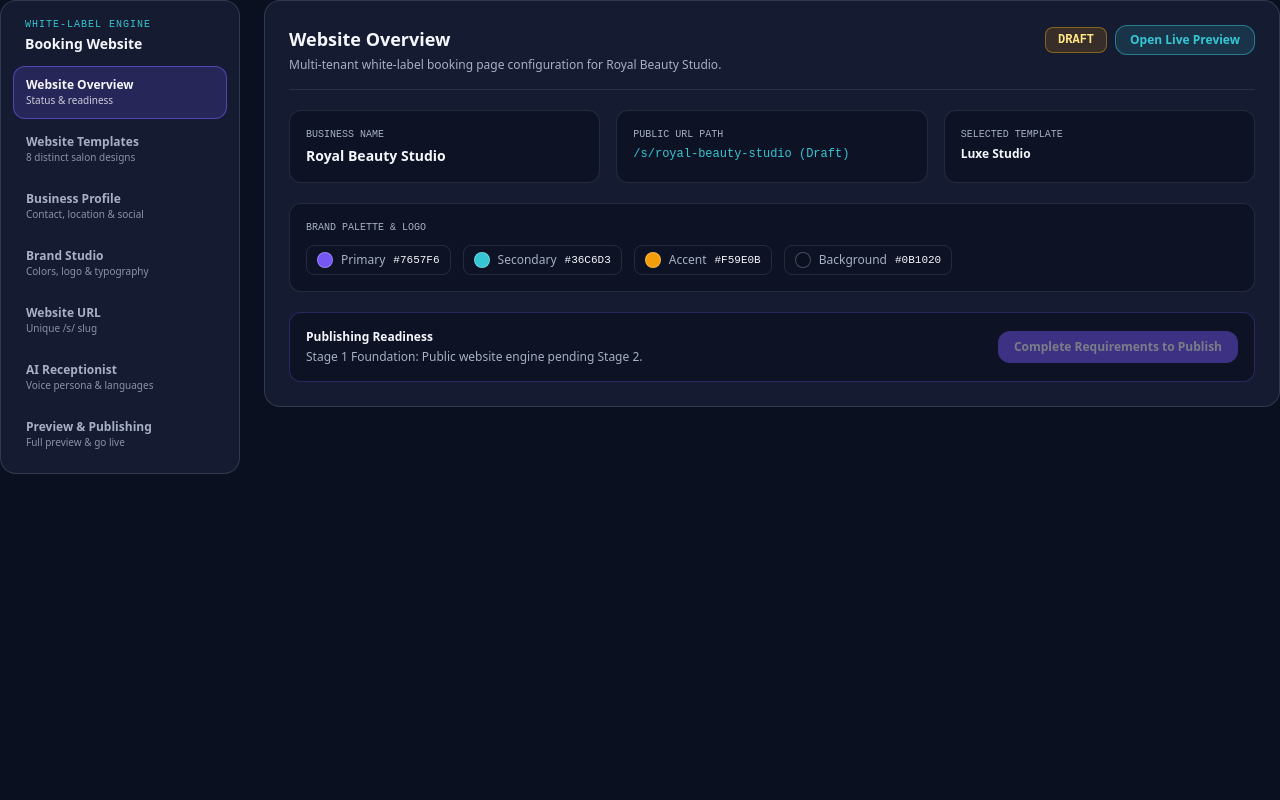
Test: Stage 1 — Booking Website Dashboard Foundation › renders Website Overview with guarded Publish button, Brand Studio live preview, and slug check
The width and height of the screenshot is (1280, 800).
Expected: the text with test id "website-status-badge" reads "draft", [1058,33,1094,47]
Expected: the button with test id "overview-publish-button" is disabled, [998,331,1238,363]
Note: Brand Studio renders live preview
Click the button with test id "website-nav-brand" at (120, 264), box [13,237,227,290]
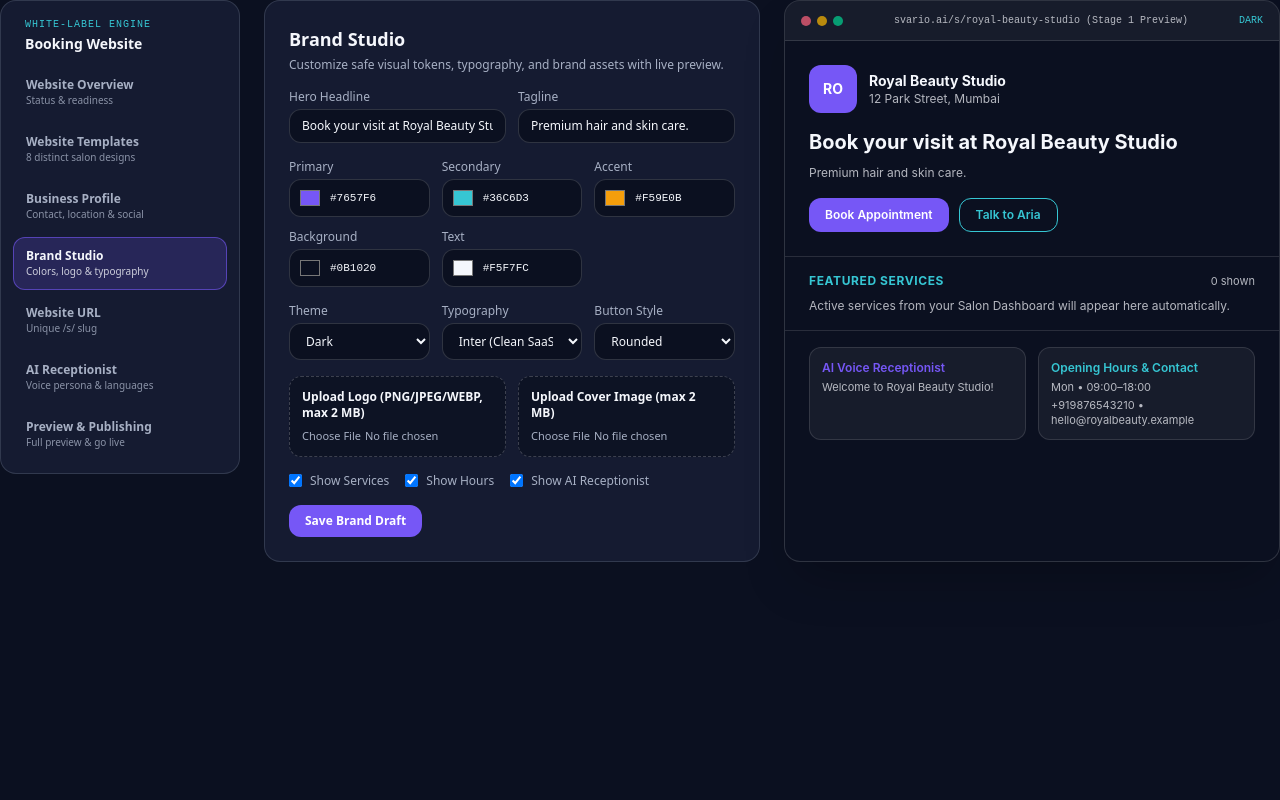
Expected: the element with test id "booking-website-live-preview" shows "Royal Beauty Studio", [869,72,1006,89]
Note: Website URL slug availability check
Click the button with test id "website-nav-url" at (120, 320), box [13,294,227,347]
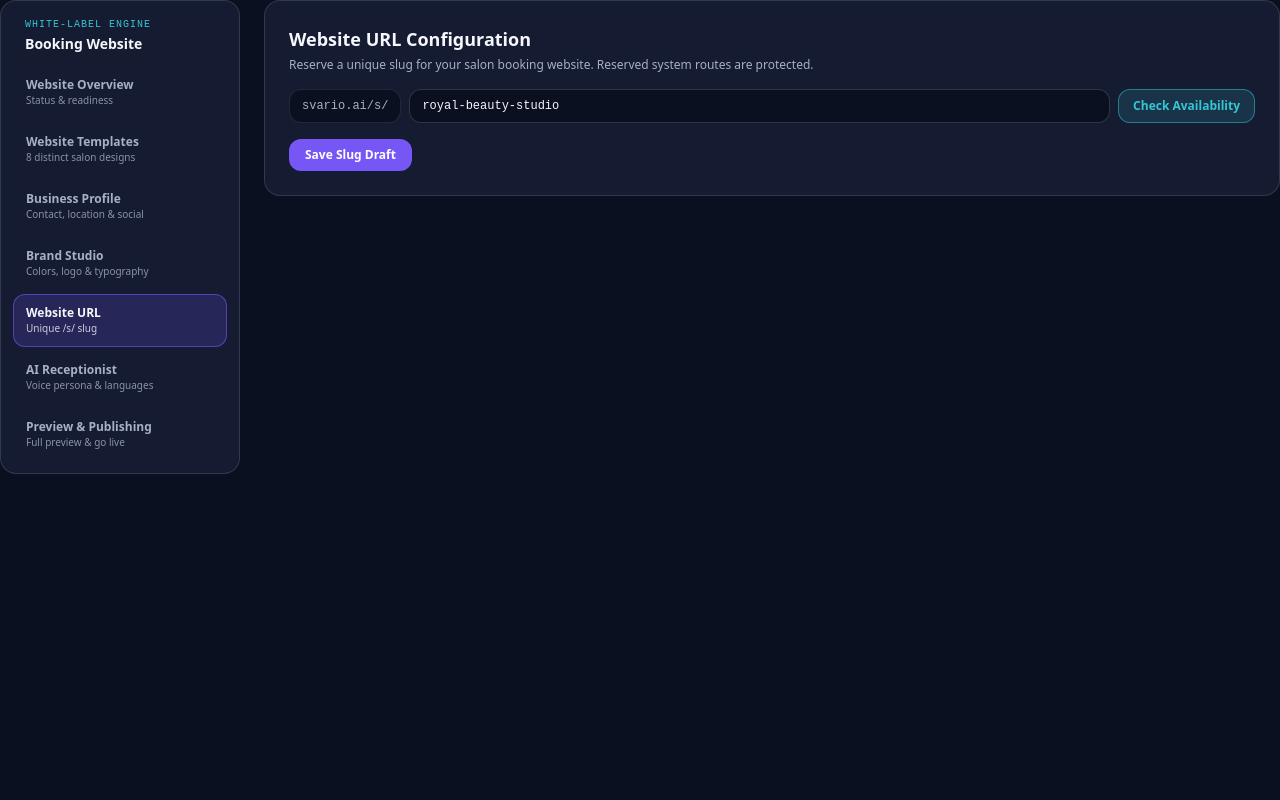
Replace the text in the field with test id "website-slug-input" with "glow-and-shine" at (760, 106), box [409,89,1110,123]
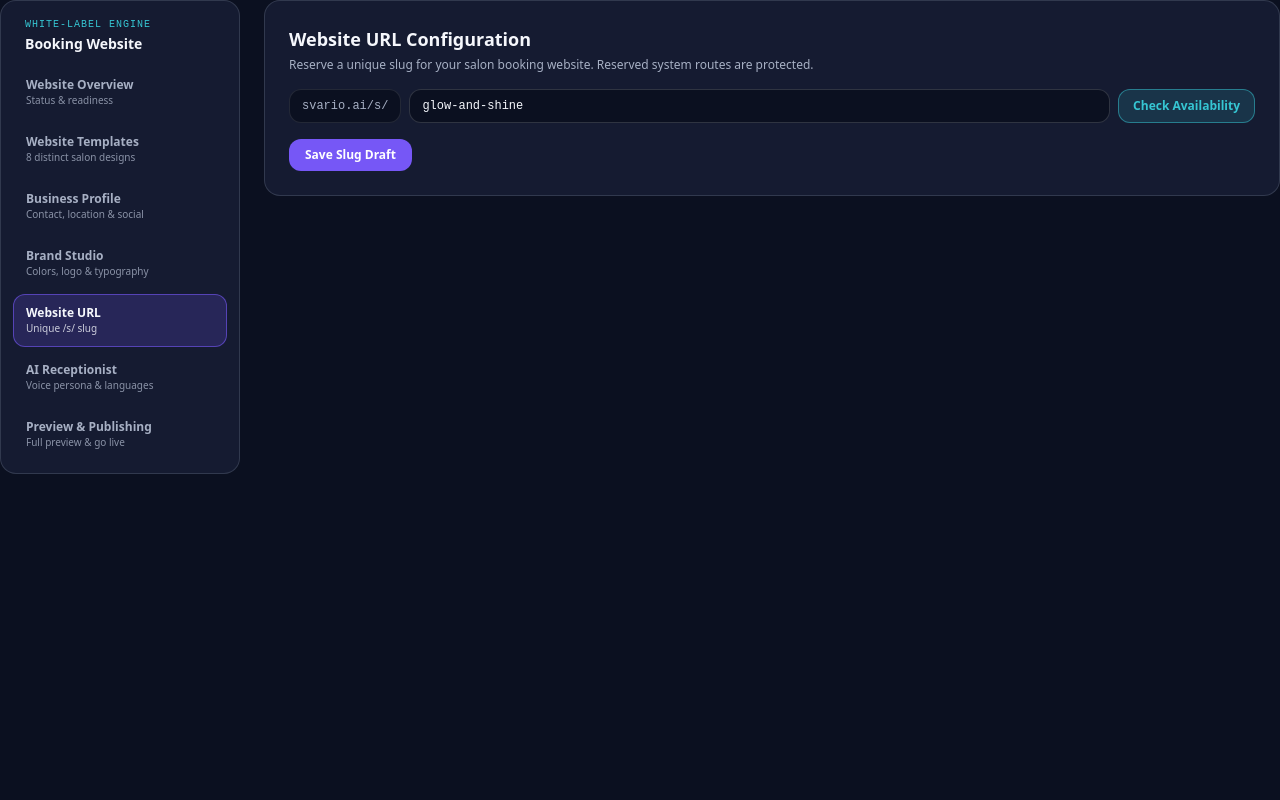
Click the button with test id "check-slug-button" at (1187, 106), box [1118,89,1255,123]
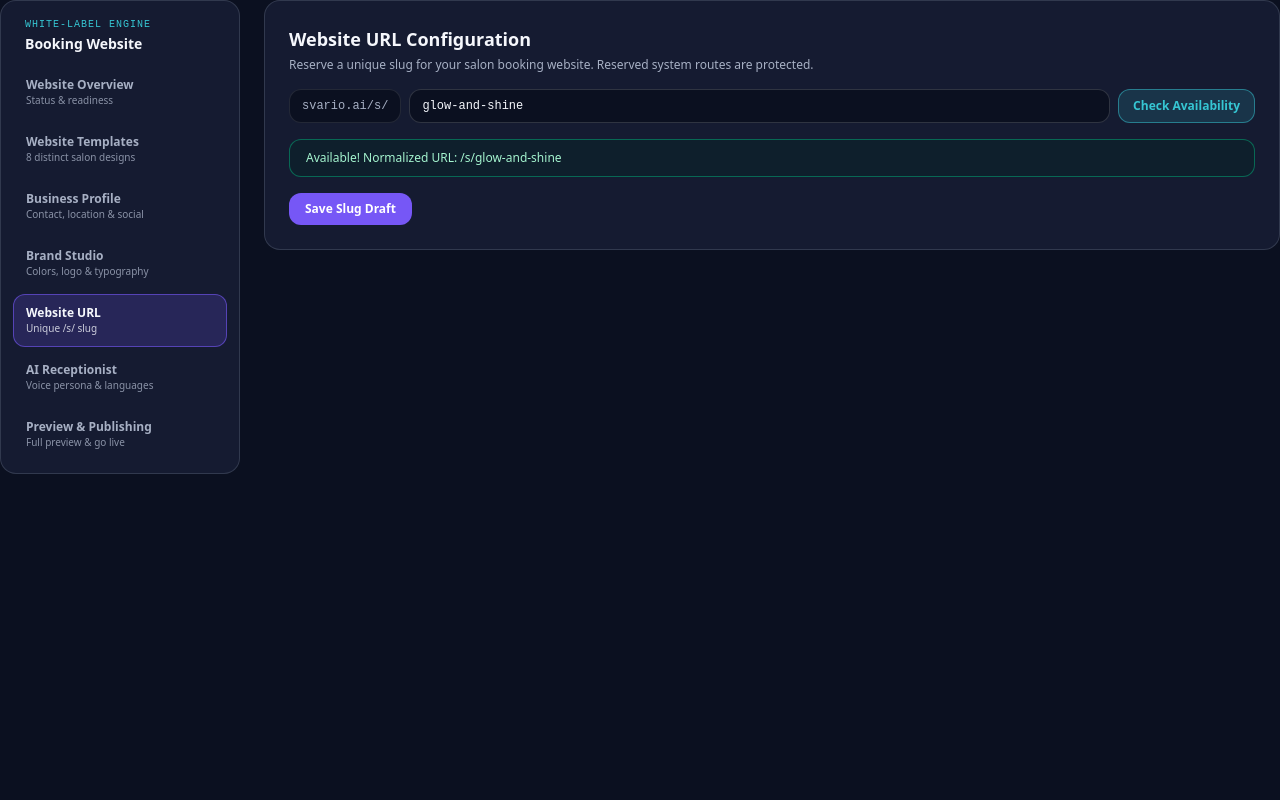
Expected: the text with test id "slug-check-result" shows "/s/glow-and-shine", [306,149,562,166]
